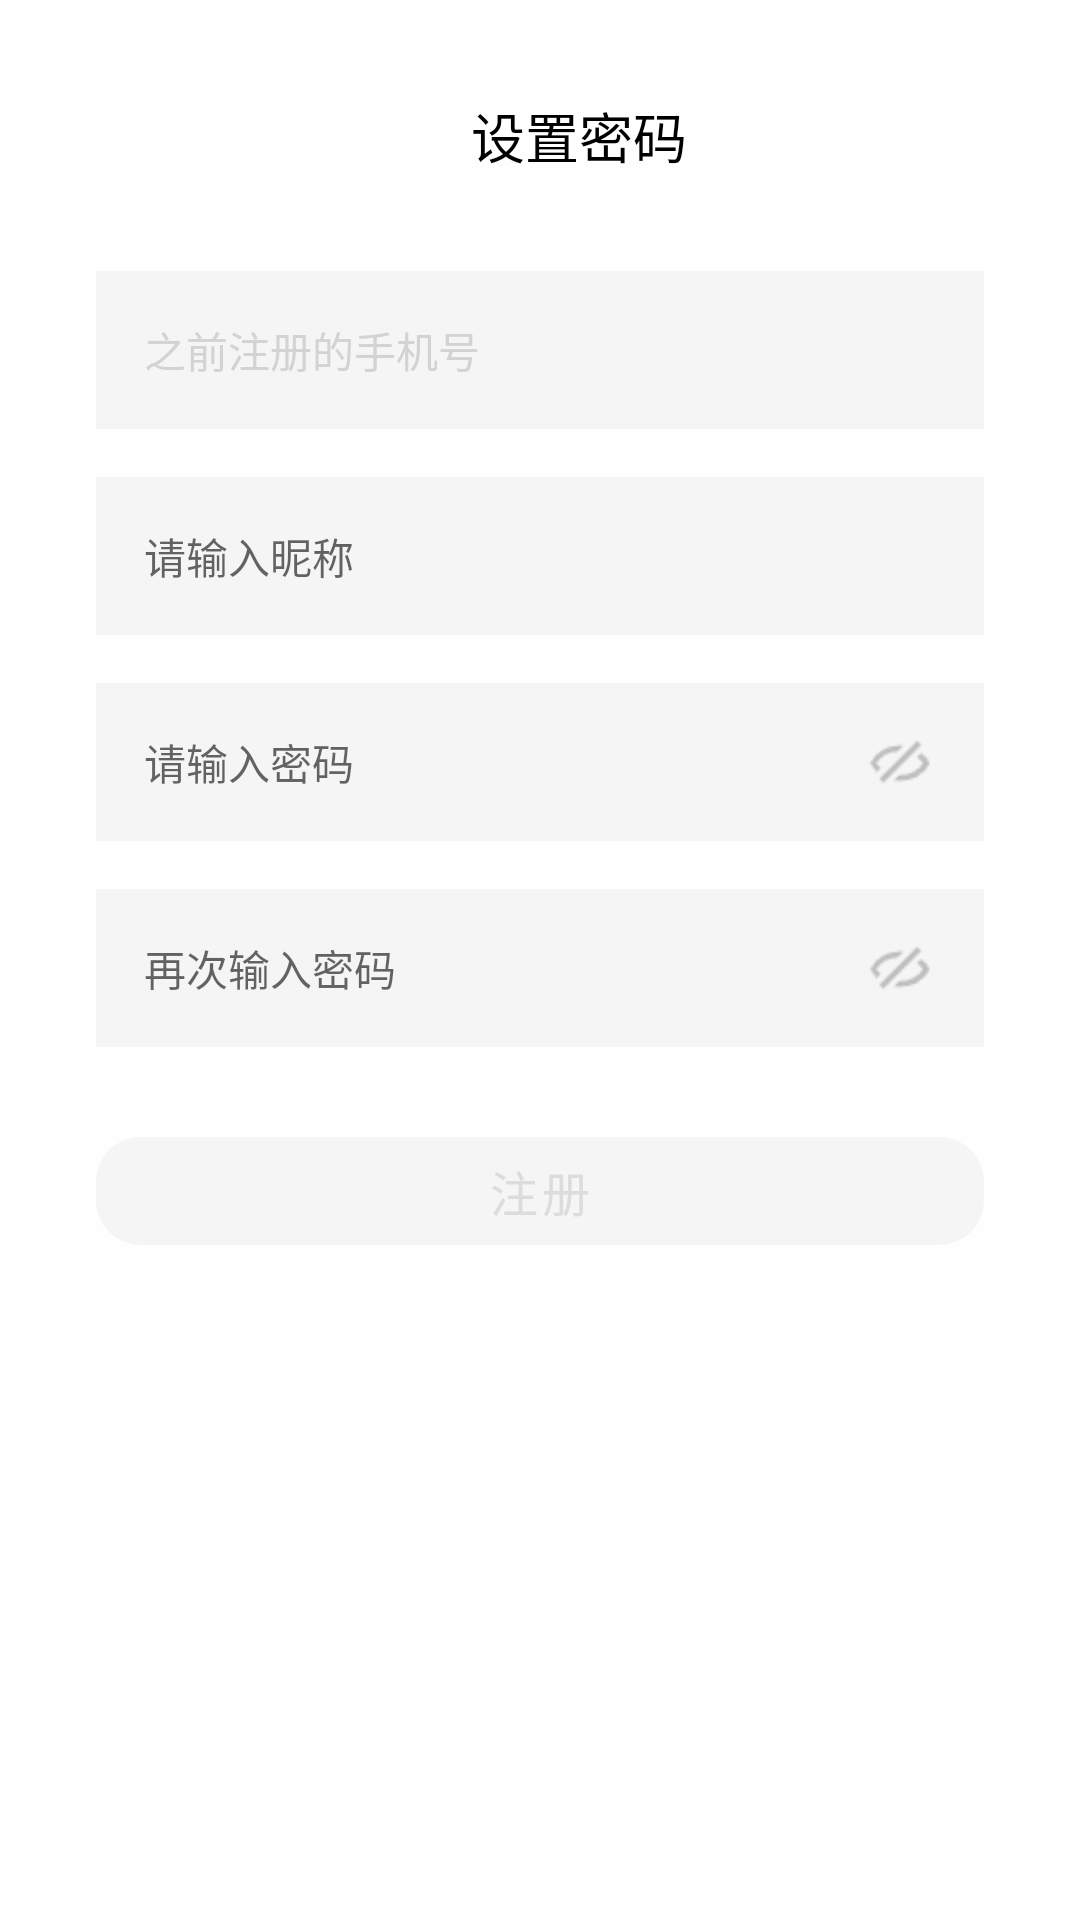

Icon bounding boxes for this 1080px×1920px phone screenshot, format (x1, y1, x2, y2):
眼睛图标: (871, 742, 929, 782), (871, 948, 929, 988)
